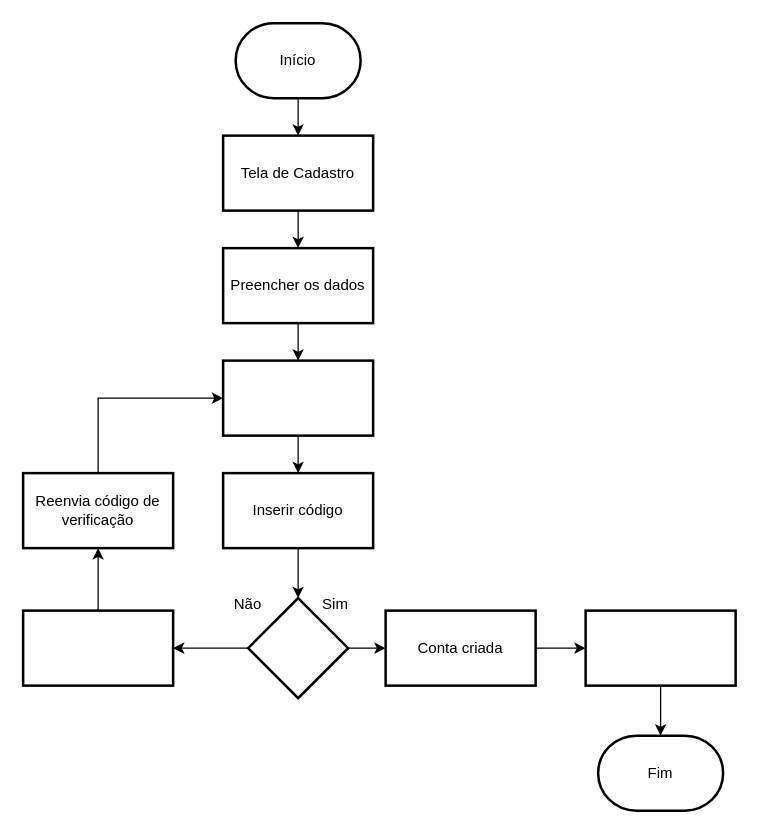
Some shapes in this 758 by 833 pixel diagram are drawn without their labels. Each missing label, with the box of its shape:
Código correto?: (246, 596, 349, 699)
Erro: (21, 609, 174, 686)
Logado: (584, 609, 736, 686)
Receber código de verificação: (221, 359, 374, 436)
